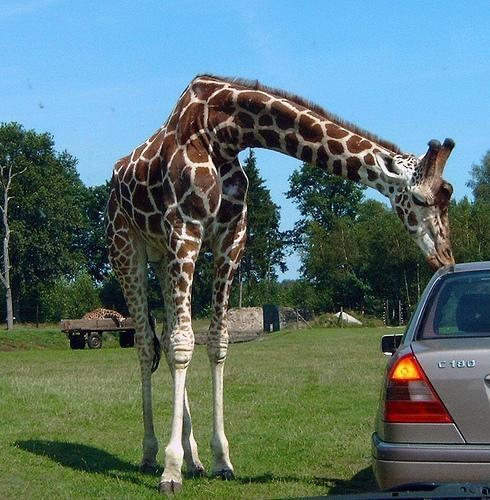car: (373, 260, 490, 490)
truck: (62, 319, 132, 351)
